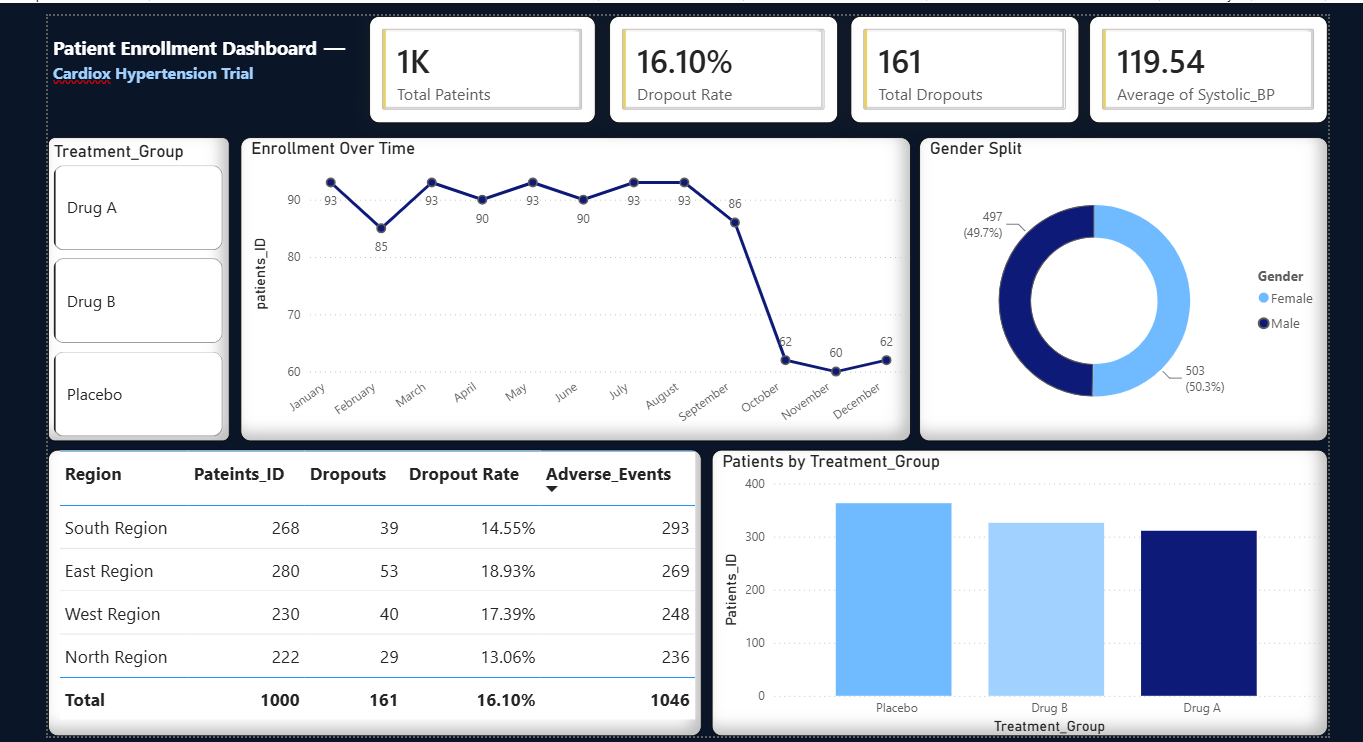

The page's visual inventory and layout, read from the dashboard file:
{"tool":"powerbi","page":{"name":"Enrollment dashboard","canvas":[1280,720],"ordinal":0},"visuals":[{"type":"cardVisual","fields":{"Data":["CountNonNull(pateints sql.Subject_ID)"]},"box":[321.2,0,226.2,107.5],"z":0},{"type":"clusteredColumnChart","title":"Patients by Treatment_Group","fields":{"Y":["CountNonNull(pateints sql.Subject_ID)"],"Category":["patients export.Treatment_Group"]},"box":[663.8,433.8,616.2,286.2],"z":1000},{"type":"donutChart","title":"Gender Split","fields":{"Category":["pateints sql.Gender"],"Y":["CountNonNull(pateints sql.Subject_ID)"]},"box":[871.2,121.2,408.8,303.8],"z":2000},{"type":"lineChart","title":"Enrollment Over Time","fields":{"Category":["pateints sql.Enrollment_Date.Variation.Date Hierarchy.Year","pateints sql.Enrollment_Date.Variation.Date Hierarchy.Quarter","pateints sql.Enrollment_Date.Variation.Date Hierarchy.Month","pateints sql.Enrollment_Date.Variation.Date Hierarchy.Day"],"Y":["CountNonNull(pateints sql.Subject_ID)"]},"box":[192.5,121.2,670,303.8],"z":3000},{"type":"tableEx","fields":{"Values":["sites sql.Region","CountNonNull(pateints sql.Subject_ID)","Sum(pateints sql.Dropout)","patients export.Dropout Rate dash %","Sum(patients export.Adverse_Events)"]},"box":[0,433.8,653.8,286.2],"z":4000},{"type":"advancedSlicerVisual","fields":{"Values":["pateints sql.Treatment_Group"]},"box":[0,121.2,181.2,303.8],"z":5000},{"type":"cardVisual","fields":{"Data":["Sum(pateints sql.Dropout)"]},"box":[802.5,0,228.8,107.5],"z":6000},{"type":"cardVisual","fields":{"Data":["Avg(pateints sql.Systolic_BP)"]},"box":[1041.2,0,238.8,107.5],"z":7000},{"type":"cardVisual","fields":{"Data":["patients export.Dropout Rate dash %"]},"box":[561.2,0,228.8,107.5],"z":8000},{"type":"textbox","box":[0,11.2,308.8,67.5],"z":9000}]}

Visuals, with their boxes in screenshot pixels (x1, y1, x2, y2):
cardVisual - CountNonNull(pateints sql.Subject_ID): bbox(355, 7, 585, 116)
"Patients by Treatment_Group" clusteredColumnChart: bbox(703, 448, 1329, 739)
"Gender Split" donutChart: bbox(914, 130, 1329, 439)
"Enrollment Over Time" lineChart: bbox(224, 130, 905, 439)
tableEx - sites sql.Region x CountNonNull(pateints sql.Subject_ID): bbox(28, 448, 693, 739)
advancedSlicerVisual - pateints sql.Treatment_Group: bbox(28, 130, 213, 439)
cardVisual - Sum(pateints sql.Dropout): bbox(844, 7, 1076, 116)
cardVisual - Avg(pateints sql.Systolic_BP): bbox(1086, 7, 1329, 116)
cardVisual - patients export.Dropout Rate dash %: bbox(599, 7, 831, 116)
textbox: bbox(28, 18, 342, 87)
